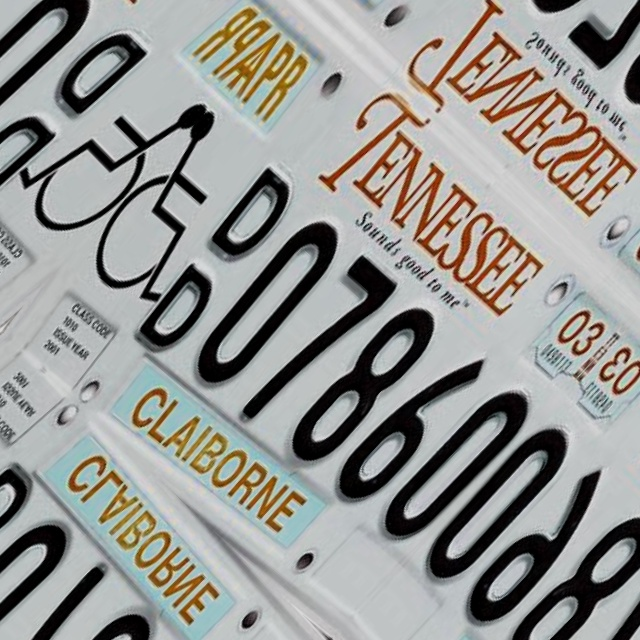ISA: (70, 105, 282, 322), (0, 39, 211, 255), (0, 404, 0, 620)
